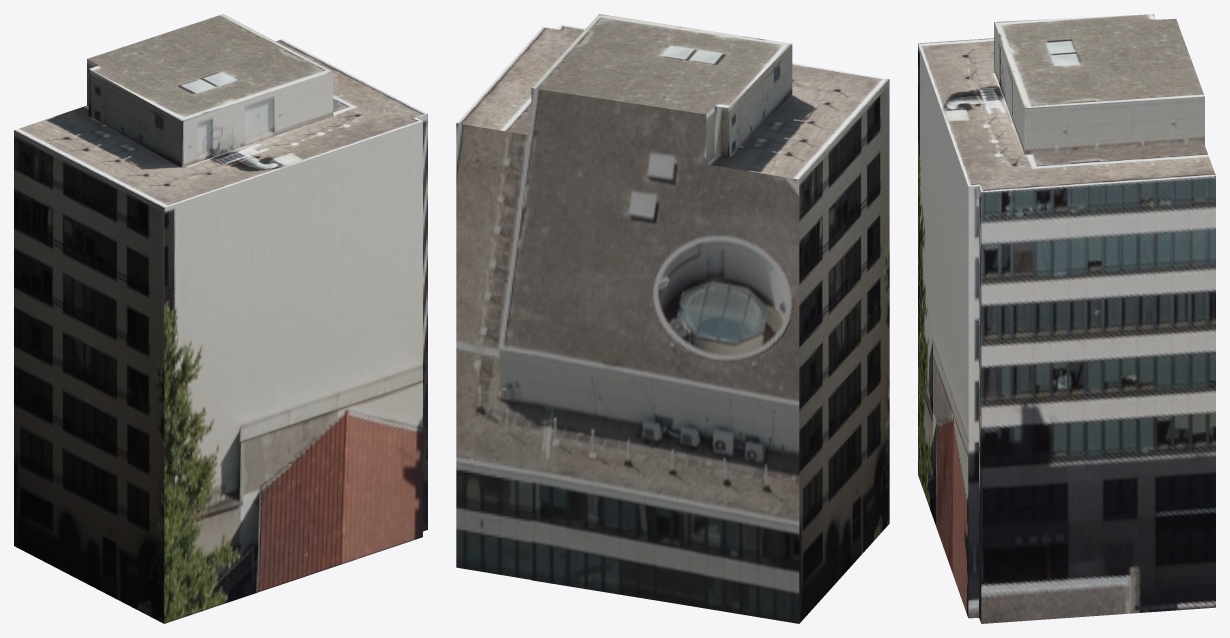
The picture shows the model from 3 angles, left to right: view 1: azimuth 30°, elevation 25°; view 2: azimuth 150°, elevation 25°; view 3: azimuth 270°, elevation 25°; orthographic projection. The views are drawn at different scales.
Visible parts, largest first — view 1: Z_UP; view 2: Z_UP; view 3: Z_UP.
Part boxes in pixels (x1,y1,x2,y2): Z_UP: (14,14,427,623); Z_UP: (456,14,889,623); Z_UP: (918,14,1215,623).
Bounding box in the file's own units: 17.86 × 24.16 × 13.58.
Materials: 2 (1 with a texture image).
